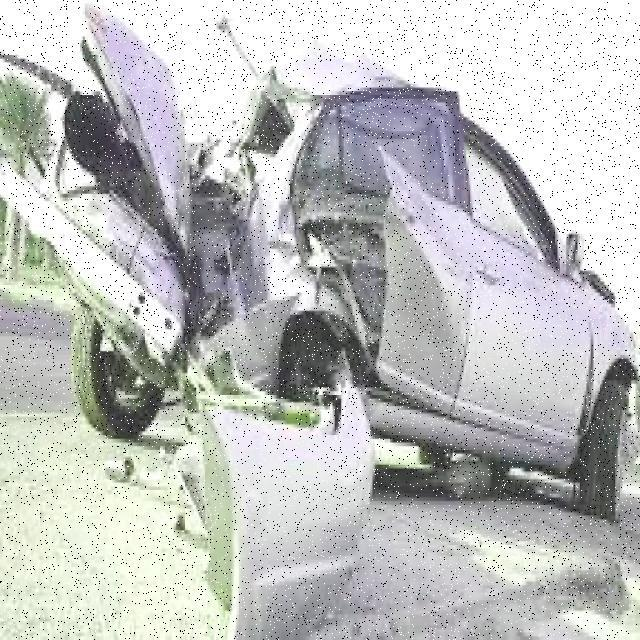car damage: (0, 0, 197, 49)
